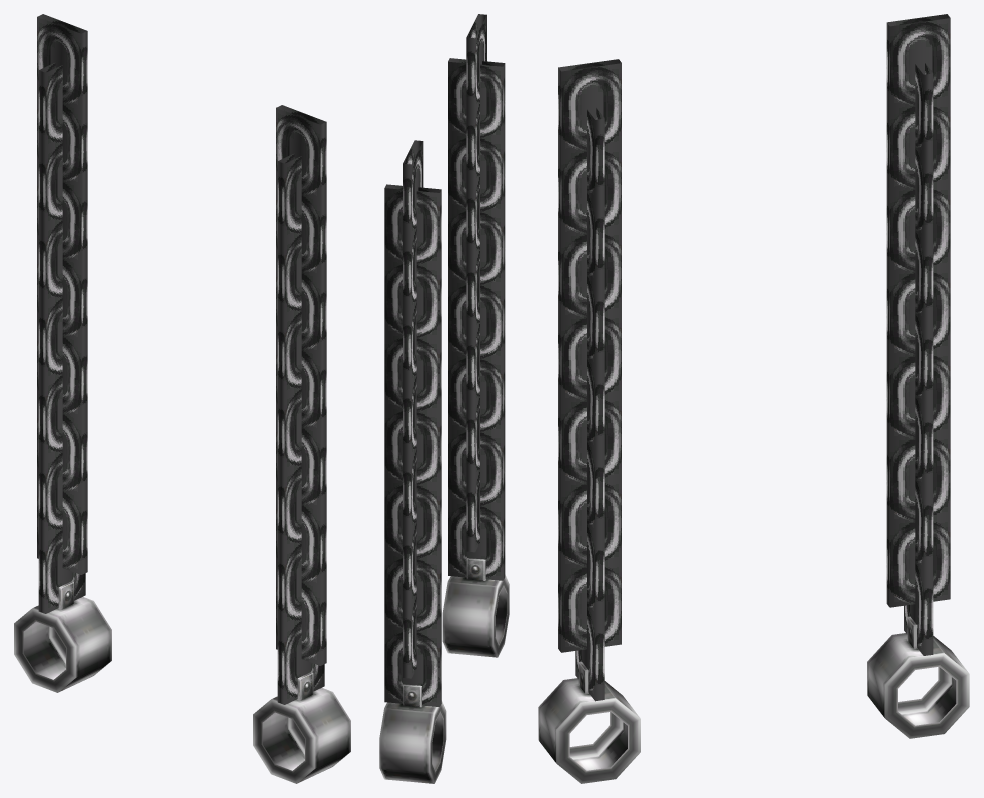
File: SWORDLIGHT20_INST_CHAINCUFFS_LOD1_03.fbx
3 renders of one model, left to right at view 1: azimuth 30°, elevation 25°; view 2: azimuth 150°, elevation 25°; view 3: azimuth 270°, elevation 25°, orthographic. The views are drawn at different scales.
Parts seen in each view (by area): view 1: SWORDLIGHT20_INST_CHAINCUFFS_LOD1_03; view 2: SWORDLIGHT20_INST_CHAINCUFFS_LOD1_03; view 3: SWORDLIGHT20_INST_CHAINCUFFS_LOD1_03.
Part boxes in pixels (x1,y1,x2,y2): SWORDLIGHT20_INST_CHAINCUFFS_LOD1_03: (14,14,350,783); SWORDLIGHT20_INST_CHAINCUFFS_LOD1_03: (379,14,509,783); SWORDLIGHT20_INST_CHAINCUFFS_LOD1_03: (538,14,969,783).
Bounding box in the file's own units: 2959 × 12114 × 6721.
Materials: 2 (2 with a texture image).
